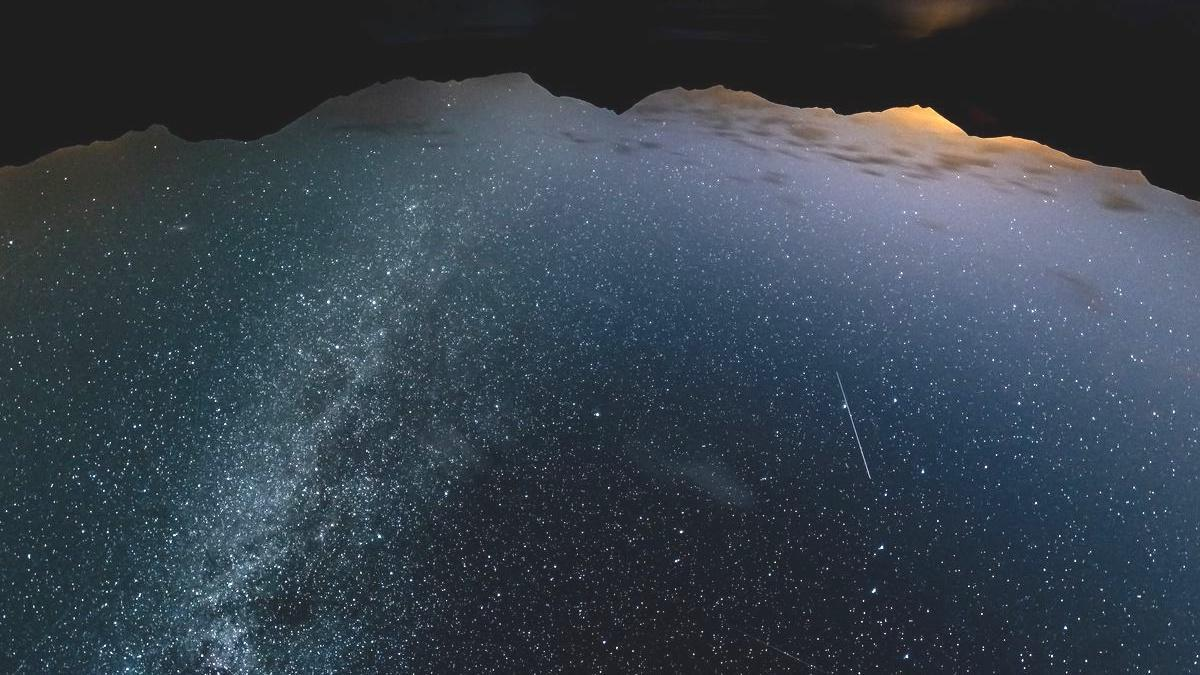meteorite: (826, 357, 878, 503)
